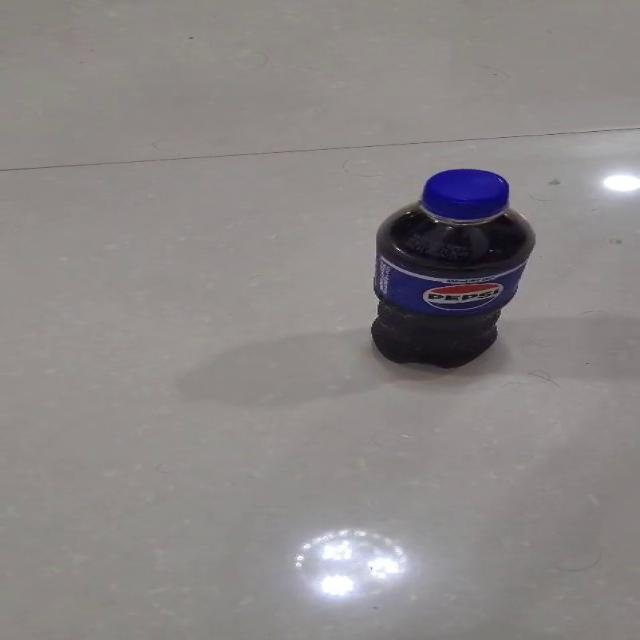plastic: (368, 167, 536, 369)
